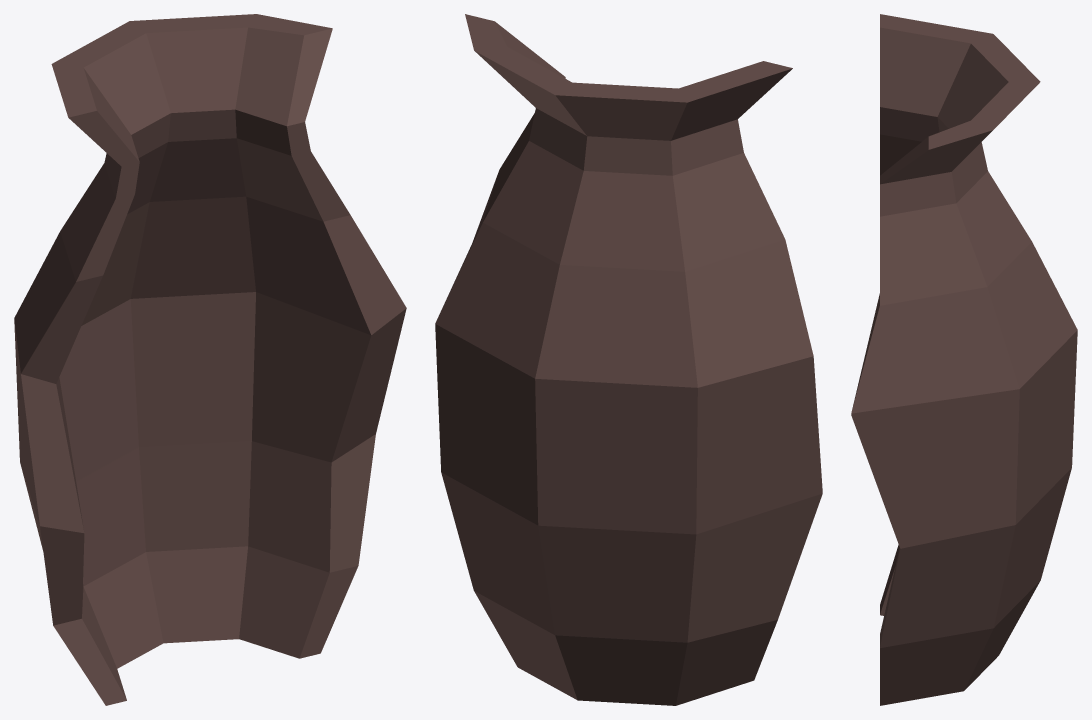
The model's file is VaseBroken.fbx.
The picture shows the model from 3 angles, left to right: view 1: azimuth 30°, elevation 25°; view 2: azimuth 150°, elevation 25°; view 3: azimuth 270°, elevation 25°; orthographic projection. The views are drawn at different scales.
Parts seen in each view (by area): view 1: pCylinder2; view 2: pCylinder2; view 3: pCylinder2.
Part boxes in pixels (bbox=[...]): pCylinder2: bbox=[14, 14, 406, 705]; pCylinder2: bbox=[435, 14, 822, 705]; pCylinder2: bbox=[851, 14, 1077, 705].
Size of the model in its own units: 2.2 by 3.52 by 1.26.
